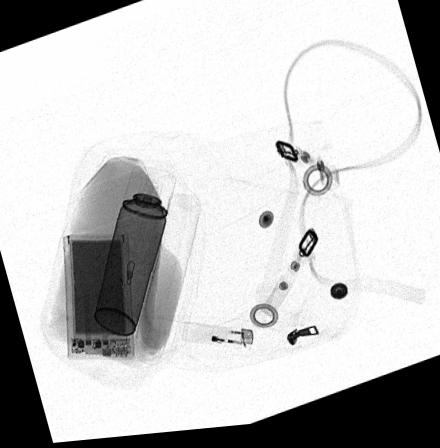Lighter: (181, 325, 253, 355)
Powerbank: (62, 236, 134, 361)
Sprayer: (93, 166, 176, 339)
